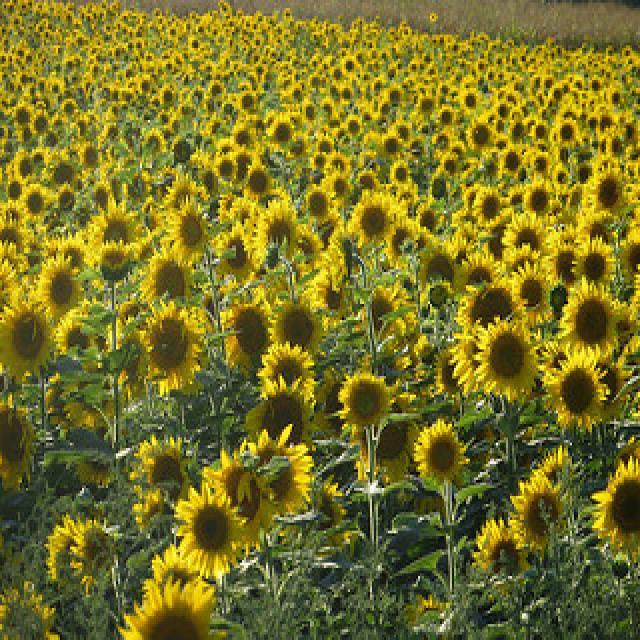sunflower: (200, 442, 284, 546), (168, 482, 252, 578), (118, 573, 236, 640), (134, 296, 210, 400), (249, 420, 319, 524), (554, 271, 622, 372), (42, 515, 124, 597), (351, 396, 423, 489), (588, 455, 640, 572), (77, 202, 145, 290), (474, 316, 540, 404), (245, 390, 321, 462), (506, 464, 568, 552), (253, 332, 323, 409), (544, 356, 610, 436), (216, 293, 276, 379), (0, 299, 60, 384), (132, 425, 192, 508), (413, 419, 473, 496), (471, 512, 533, 584), (0, 386, 38, 498), (458, 274, 524, 338), (335, 364, 393, 436), (299, 253, 355, 323), (0, 578, 60, 640), (276, 290, 326, 362), (135, 255, 193, 316), (211, 220, 259, 292), (342, 183, 392, 252), (414, 235, 462, 301), (369, 273, 411, 348), (55, 312, 103, 373), (39, 251, 83, 317), (499, 208, 547, 267), (544, 225, 586, 287), (172, 202, 210, 266), (577, 230, 619, 286), (250, 214, 296, 262), (587, 168, 627, 221), (468, 183, 508, 236), (515, 262, 547, 326), (381, 209, 419, 260), (0, 214, 30, 278), (520, 176, 558, 224), (242, 157, 278, 203), (8, 144, 40, 195), (302, 186, 336, 233), (207, 148, 243, 188), (463, 114, 499, 154), (47, 152, 83, 192), (18, 180, 50, 223), (414, 329, 440, 380), (524, 143, 558, 180), (226, 119, 262, 153), (497, 144, 523, 189), (271, 108, 299, 148), (324, 146, 352, 186), (162, 136, 196, 168), (25, 106, 51, 146), (10, 92, 36, 132), (140, 120, 166, 160), (553, 112, 581, 149), (104, 132, 132, 169), (51, 187, 81, 221), (385, 160, 415, 192), (378, 129, 402, 167), (549, 157, 573, 195), (234, 86, 262, 118), (598, 130, 626, 162), (416, 199, 440, 236), (78, 140, 102, 175), (203, 76, 229, 108), (389, 117, 415, 147), (338, 54, 362, 86), (413, 90, 437, 122), (355, 162, 379, 194), (55, 93, 79, 123), (436, 152, 462, 179), (506, 116, 530, 145), (345, 113, 367, 143), (428, 169, 450, 199), (156, 86, 182, 110), (135, 74, 161, 98), (430, 128, 452, 155), (435, 103, 457, 129), (307, 150, 331, 173), (165, 21, 185, 48), (407, 133, 427, 160), (461, 85, 481, 112), (576, 160, 596, 187), (312, 135, 336, 156), (388, 81, 406, 108), (284, 80, 304, 104), (493, 99, 513, 122), (532, 119, 552, 142), (303, 98, 317, 130), (184, 33, 204, 55), (583, 108, 601, 132), (34, 75, 50, 101), (587, 70, 603, 94), (338, 83, 356, 104), (548, 84, 566, 105), (377, 97, 393, 119), (89, 61, 105, 83), (48, 77, 64, 99), (307, 72, 325, 91), (253, 60, 271, 79), (371, 72, 385, 96), (14, 44, 30, 65), (318, 95, 336, 113), (155, 108, 171, 127), (610, 88, 624, 109), (23, 48, 37, 69), (10, 13, 24, 32), (162, 59, 176, 77), (542, 73, 554, 92), (111, 41, 123, 60), (406, 58, 420, 74), (102, 20, 116, 36), (530, 74, 542, 90), (476, 60, 486, 73)
